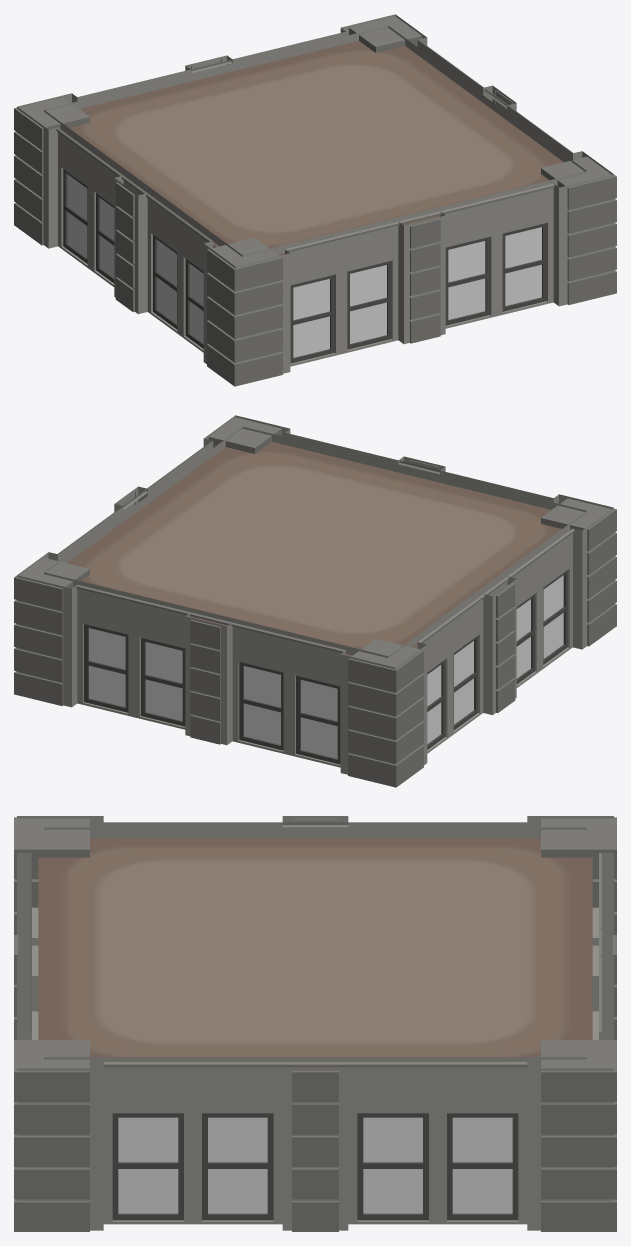
File: SM_Bldg_City_High-Rise_04_Top.fbx
3 renders of one model, top to bottom at view 1: azimuth 30°, elevation 25°; view 2: azimuth 150°, elevation 25°; view 3: azimuth 270°, elevation 25°, orthographic. The views are drawn at different scales.
Parts seen in each view (by area): view 1: SM_Bldg_City_High-Rise_04_Top, SM_Bldg_City_High-Rise_04_Top_Glass; view 2: SM_Bldg_City_High-Rise_04_Top, SM_Bldg_City_High-Rise_04_Top_Glass; view 3: SM_Bldg_City_High-Rise_04_Top, SM_Bldg_City_High-Rise_04_Top_Glass.
Part boxes in pixels (x1,y1,x2,y2): SM_Bldg_City_High-Rise_04_Top: (14, 14, 616, 386); SM_Bldg_City_High-Rise_04_Top_Glass: (67, 174, 541, 357); SM_Bldg_City_High-Rise_04_Top: (14, 415, 616, 787); SM_Bldg_City_High-Rise_04_Top_Glass: (89, 575, 563, 758); SM_Bldg_City_High-Rise_04_Top: (14, 816, 616, 1231); SM_Bldg_City_High-Rise_04_Top_Glass: (118, 1117, 512, 1213).
Size of the model in its own units: 1010 by 300 by 1010.
